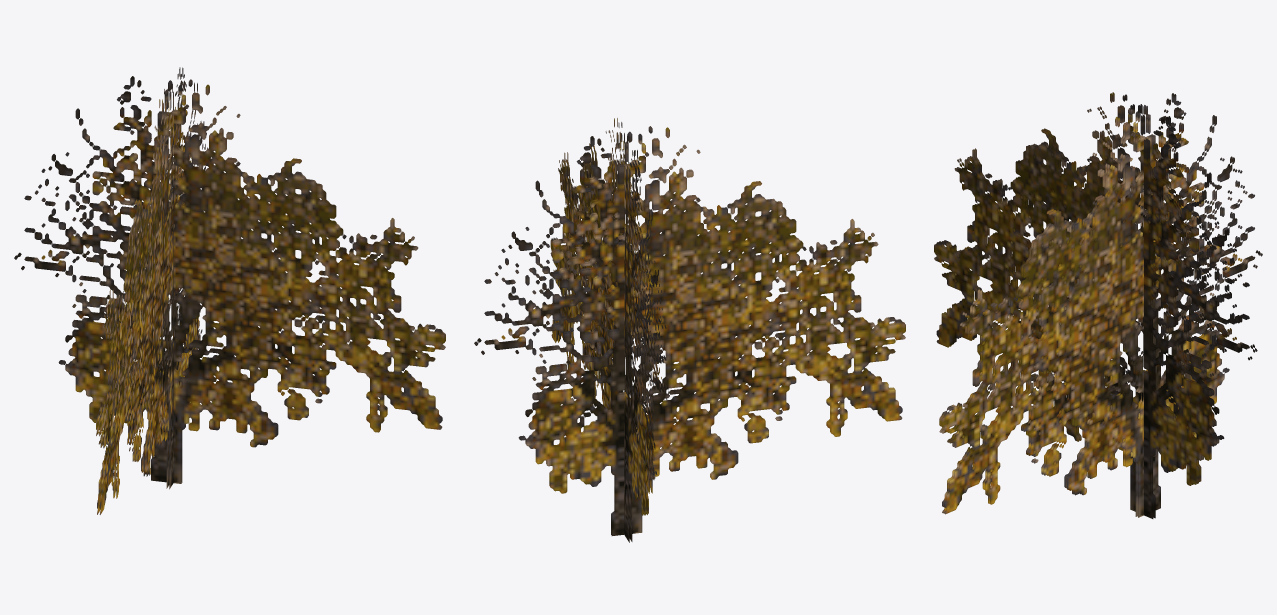
The model's file is tree015.fbx.
3 renders of one model, left to right at view 1: azimuth 30°, elevation 25°; view 2: azimuth 150°, elevation 25°; view 3: azimuth 270°, elevation 25°, orthographic.
Parts seen in each view (by area): view 1: tree015; view 2: tree015; view 3: tree015.
Boxes of the visible parts, left/top/right/bottom form: tree015: left=14, top=67, right=445, bottom=514; tree015: left=474, top=118, right=905, bottom=542; tree015: left=934, top=92, right=1262, bottom=518.
Size of the model in its own units: 274 by 310 by 217.
Materials: 1 (1 with a texture image).
